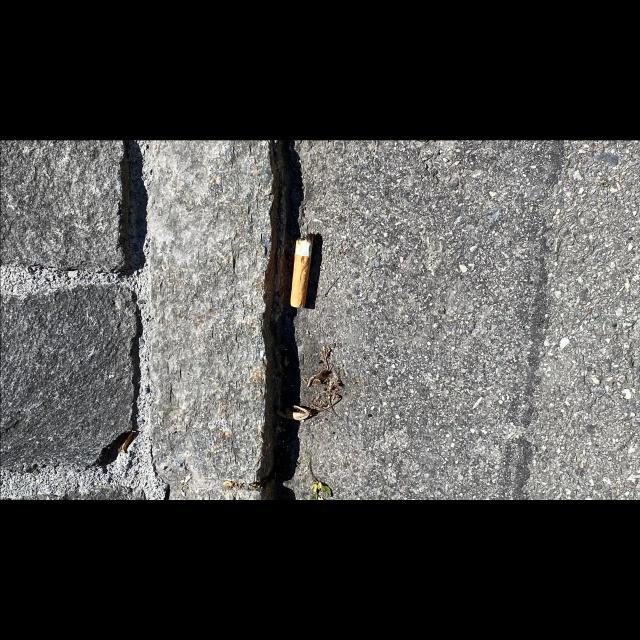cigarette: (289, 232, 314, 308)
